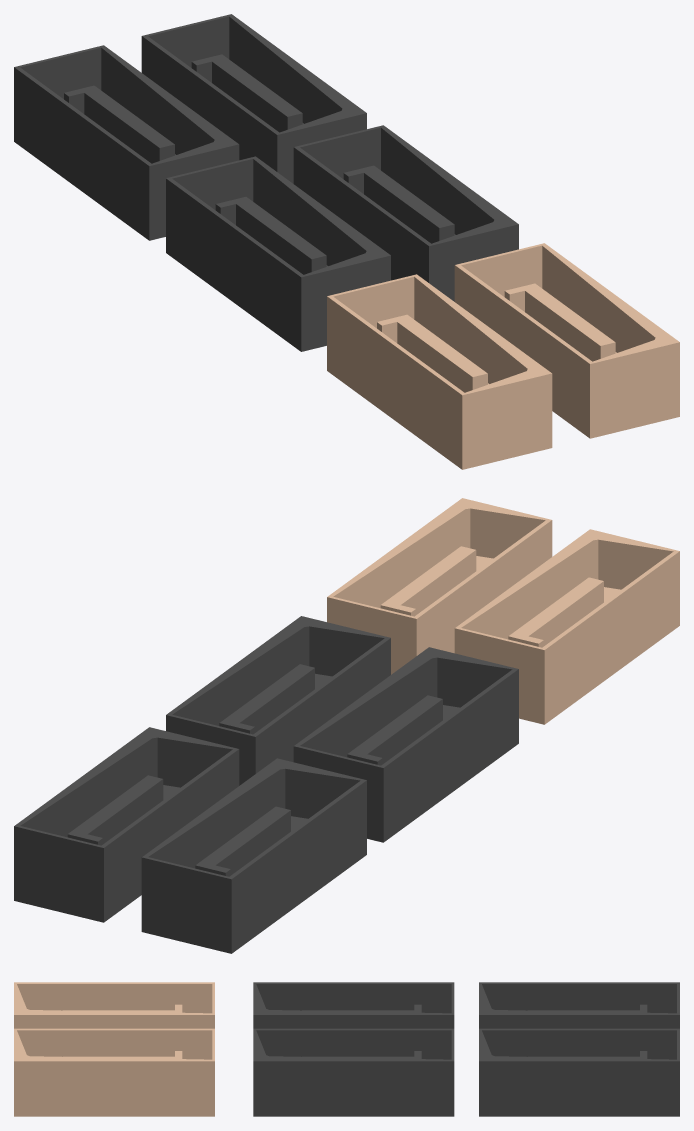
File: USB1.fbx
3 renders of one model, top to bottom at view 1: azimuth 30°, elevation 25°; view 2: azimuth 150°, elevation 25°; view 3: azimuth 270°, elevation 25°, orthographic. The views are drawn at different scales.
Parts seen in each view (by area): view 1: USB10; view 2: USB10; view 3: USB10.
Boxes of the visible parts, left/top/right/bottom form: USB10: left=14, top=14, right=679, bottom=469; USB10: left=14, top=498, right=679, bottom=953; USB10: left=14, top=982, right=679, bottom=1116.
Bounding box in the file's own units: 781 × 256 × 2785.
